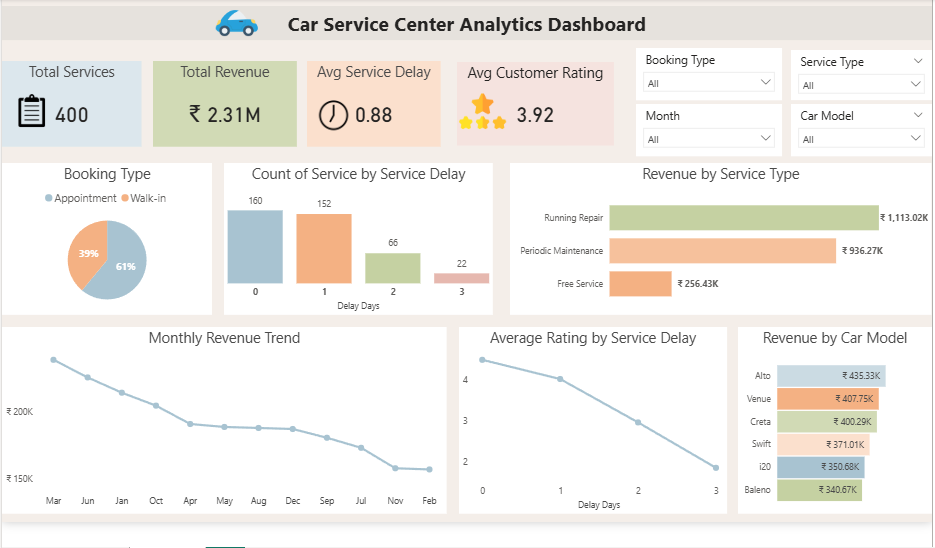

The page's visual inventory and layout, read from the dashboard file:
{"tool":"powerbi","page":{"name":"Visuals","canvas":[1280,720],"ordinal":0},"visuals":[{"type":"card","title":"Total Services","fields":{"Values":["car_service_analysis.Total Services"]},"box":[0,84.9,192,118.3],"z":0},{"type":"card","title":"Total Revenue","fields":{"Values":["car_service_analysis.Total Revenue"]},"box":[207.3,84.9,197.6,118.3],"z":1000},{"type":"card","title":"Avg Customer Rating","fields":{"Values":["car_service_analysis.Average Rating"]},"box":[626.1,86.3,215.7,115.5],"z":2000},{"type":"card","title":"Avg Service Delay","fields":{"Values":["car_service_analysis.Average Delay"]},"box":[420.2,84.9,183.7,118.3],"z":3000},{"type":"pieChart","title":"Booking Type","fields":{"Y":["CountNonNull(car_service_analysis.service_id)"],"Category":["car_service_analysis.booking_type"]},"box":[0,225.4,289.4,208.7],"z":4000},{"type":"clusteredColumnChart","title":"Count of Service by Service Delay","fields":{"Category":["car_service_analysis.service_delay"],"Y":["CountNonNull(car_service_analysis.service_id)"]},"box":[306.1,225.4,370.1,208.7],"z":5000},{"type":"barChart","title":"Revenue by Service Type","fields":{"Category":["car_service_analysis.service_type"],"Y":["car_service_analysis.Total Revenue"]},"box":[699.8,225.4,580.2,208.7],"z":6000},{"type":"barChart","title":"Revenue by Car Model","fields":{"Category":["car_service_analysis.car_model"],"Y":["car_service_analysis.Total Revenue"]},"box":[1012.9,450.8,267.1,257.4],"z":7000},{"type":"lineChart","title":"Average Rating by Service Delay","fields":{"Y":["car_service_analysis.Average Rating"],"Category":["car_service_analysis.service_delay"]},"box":[628.9,450.8,368.7,257.4],"z":8000},{"type":"slicer","fields":{"Values":["car_service_analysis.car_model"]},"box":[1085.9,144.5,194.1,71.6],"z":9000},{"type":"slicer","fields":{"Values":["car_service_analysis.service_type"]},"box":[1085.9,70.2,194.1,68.8],"z":10000},{"type":"slicer","fields":{"Values":["car_service_analysis.booking_type"]},"box":[872.6,67.4,200.9,71.6],"z":11000},{"type":"slicer","fields":{"Values":["car_service_analysis.Service Month"]},"box":[872.6,144.5,200.9,71.6],"z":12000},{"type":"lineChart","title":"Monthly Revenue Trend","fields":{"Category":["car_service_analysis.Service Month"],"Y":["car_service_analysis.Total Revenue"]},"box":[0,450.8,612.2,257.4],"z":13000},{"type":"textbox","box":[0,9.7,1280,47.3],"z":14000},{"type":"image","box":[16.7,126.6,48.7,54.3],"z":15000},{"type":"image","box":[435.5,139.1,43.1,41.7],"z":16000},{"type":"image","box":[628.9,121,65.4,66.8],"z":17000},{"type":"image","box":[271.1,4.1,104.6,57.8],"z":18000}]}

Visuals, with their boxes on the page's 1280x720 design canvas (x1, y1, x2, y2). These are canvas units, not pixel positions in the 935x548 screenshot, which may show the page scaled, cropped or inside an application window:
"Total Services" card: Rect(0, 85, 192, 203)
"Total Revenue" card: Rect(207, 85, 405, 203)
"Avg Customer Rating" card: Rect(626, 86, 842, 202)
"Avg Service Delay" card: Rect(420, 85, 604, 203)
"Booking Type" pieChart: Rect(0, 225, 289, 434)
"Count of Service by Service Delay" clusteredColumnChart: Rect(306, 225, 676, 434)
"Revenue by Service Type" barChart: Rect(700, 225, 1280, 434)
"Revenue by Car Model" barChart: Rect(1013, 451, 1280, 708)
"Average Rating by Service Delay" lineChart: Rect(629, 451, 998, 708)
slicer - car_service_analysis.car_model: Rect(1086, 144, 1280, 216)
slicer - car_service_analysis.service_type: Rect(1086, 70, 1280, 139)
slicer - car_service_analysis.booking_type: Rect(873, 67, 1074, 139)
slicer - car_service_analysis.Service Month: Rect(873, 144, 1074, 216)
"Monthly Revenue Trend" lineChart: Rect(0, 451, 612, 708)
textbox: Rect(0, 10, 1280, 57)
image: Rect(17, 127, 65, 181)
image: Rect(436, 139, 479, 181)
image: Rect(629, 121, 694, 188)
image: Rect(271, 4, 376, 62)
